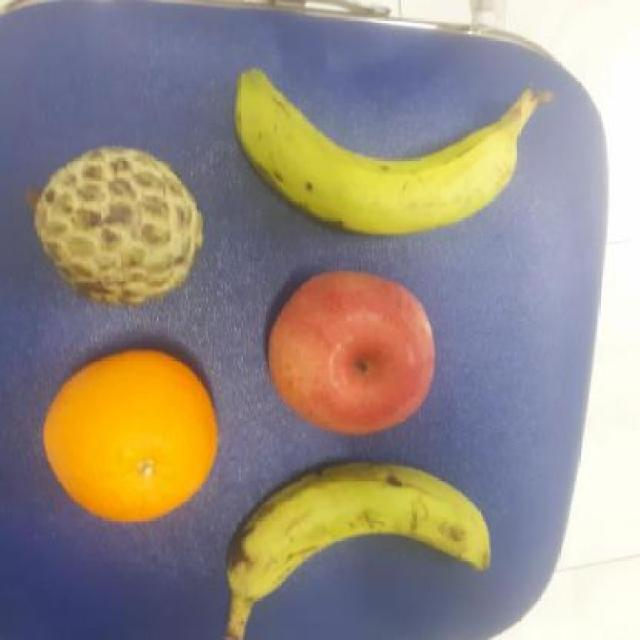apple: (269, 268, 436, 434)
banana: (233, 73, 544, 241), (228, 452, 494, 619)
oren: (38, 346, 222, 528)
sugar apple: (23, 140, 214, 312)
